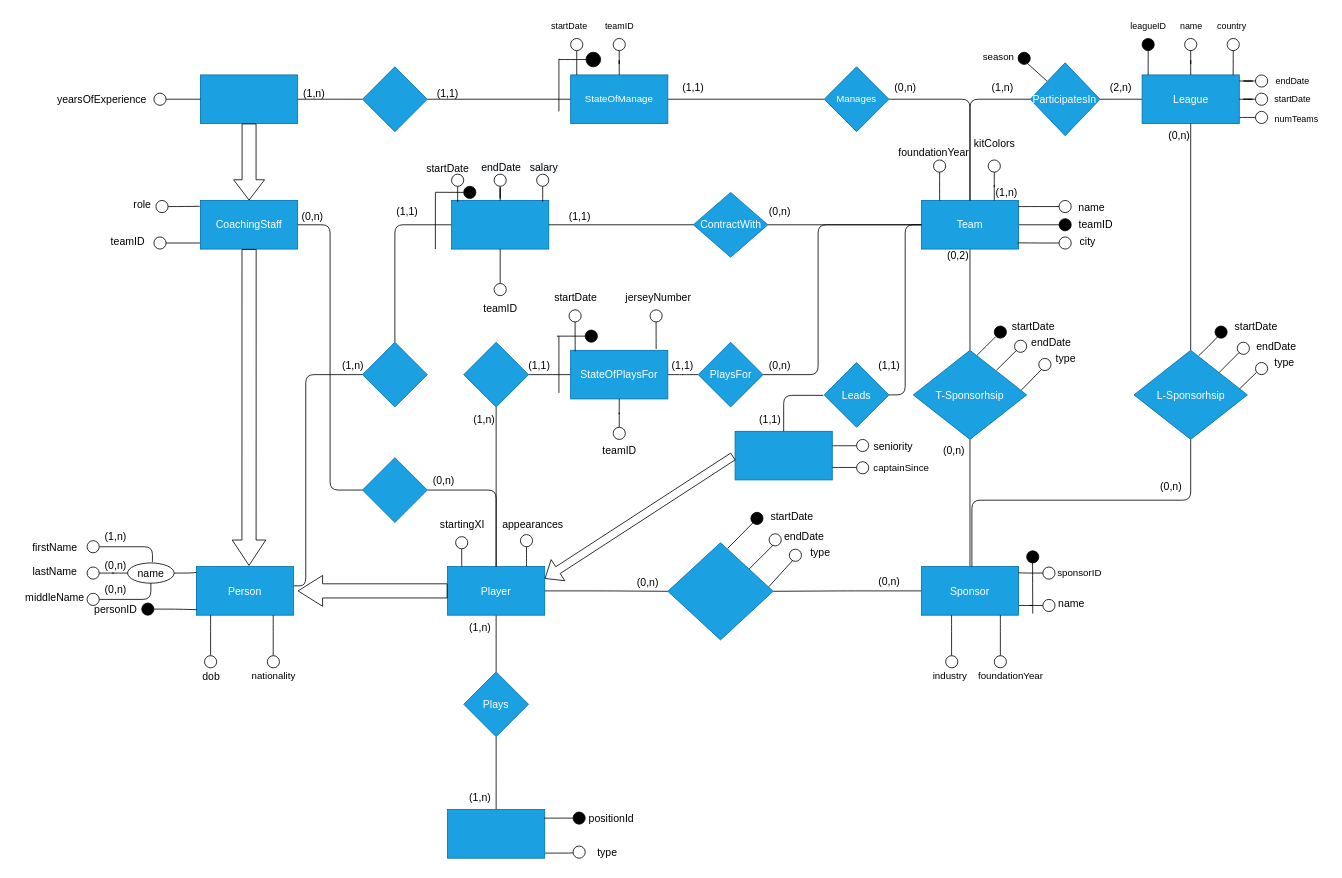
Some shapes in this 1342 by 878 pixel diagram are drawn without their labels. The centre of each missing label's shape, as x and y in pixels:
Captain: [783,455]
HasStateC: [394,374]
HasStateM: [394,99]
HasStateP: [496,374]
Manager: [249,99]
P-Sponsorhip: [720,591]
Position: [496,833]
StateOfContract: [500,224]
Trains: [394,489]
